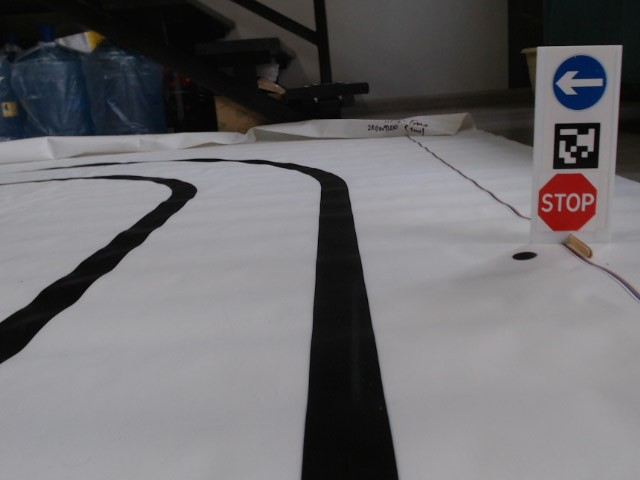Stop: (536, 172, 598, 235)
